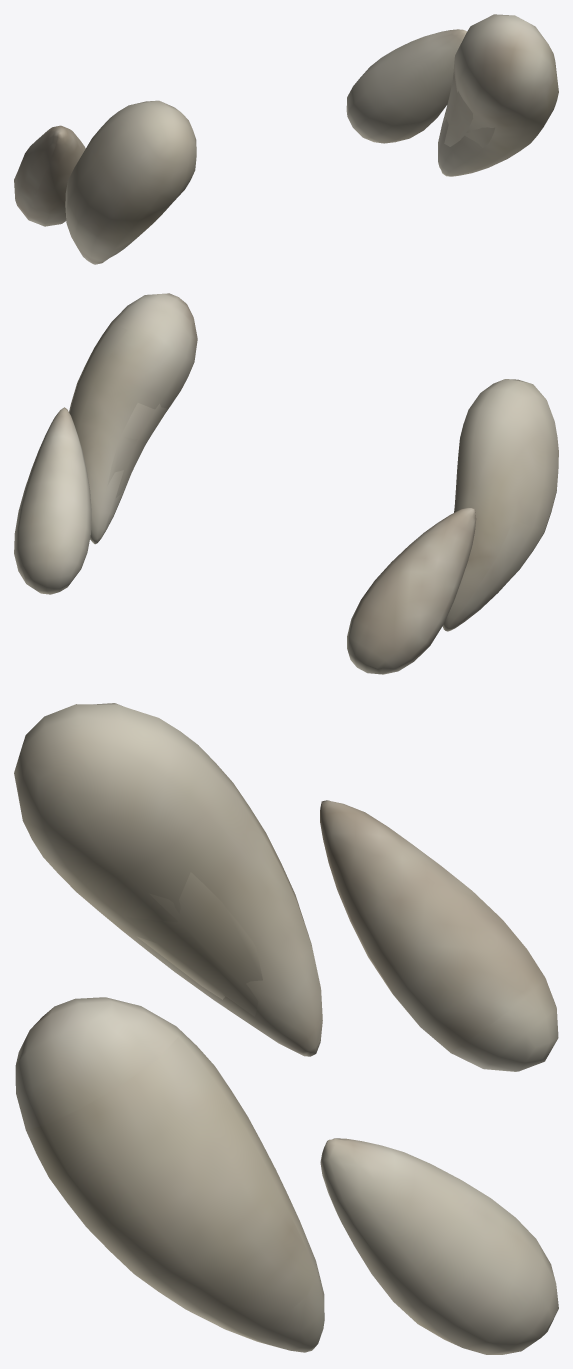
Rendered from Teeth Canini.fbx.
The picture shows the model from 3 angles, top to bottom: view 1: azimuth 30°, elevation 25°; view 2: azimuth 150°, elevation 25°; view 3: azimuth 270°, elevation 25°; orthographic projection. The views are drawn at different scales.
Visible parts, largest first — view 1: Teeth Canini, Teeth Canini low; view 2: Teeth Canini, Teeth Canini low; view 3: Teeth Canini, Teeth Canini low.
Part boxes in pixels (bbox=[...]): Teeth Canini: bbox=[14, 14, 558, 264]; Teeth Canini low: bbox=[443, 72, 494, 147]; Teeth Canini: bbox=[14, 293, 558, 674]; Teeth Canini low: bbox=[107, 403, 167, 497]; Teeth Canini: bbox=[14, 703, 558, 1354]; Teeth Canini low: bbox=[127, 872, 262, 1016].
Size of the model in its own units: 1.29 by 0.5419 by 0.7552.
1 material, 1 textured.
